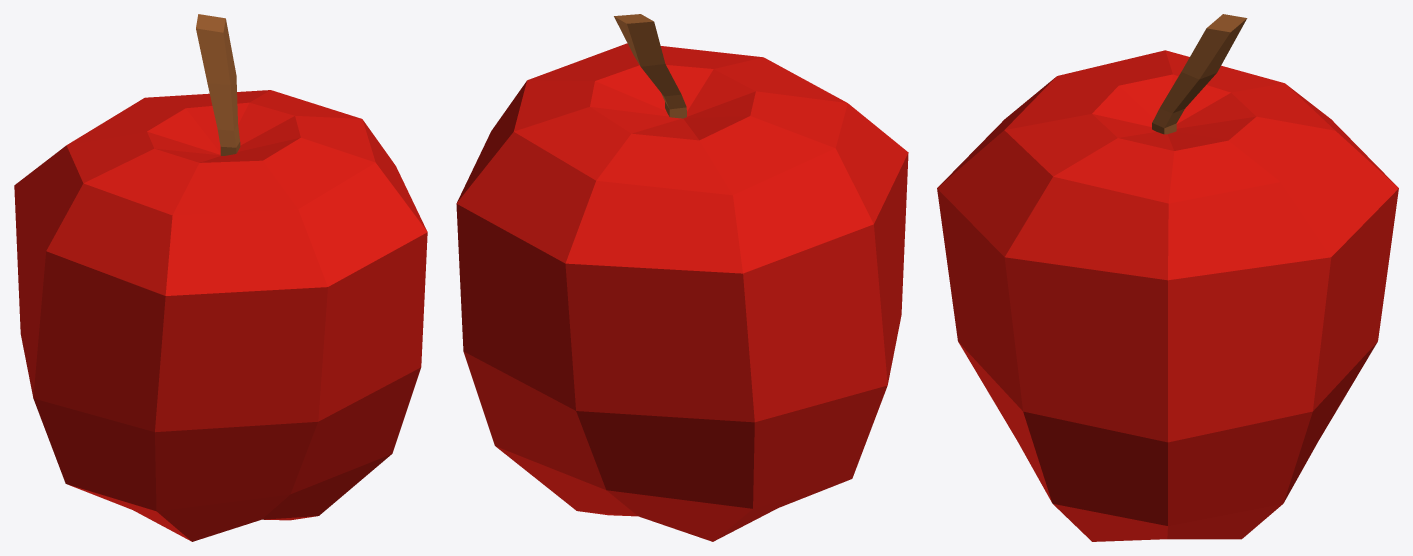
The model's file is apple.fbx.
The picture shows the model from 3 angles, left to right: view 1: azimuth 30°, elevation 25°; view 2: azimuth 150°, elevation 25°; view 3: azimuth 270°, elevation 25°; orthographic projection. The views are drawn at different scales.
Parts seen in each view (by area): view 1: apple; view 2: apple; view 3: apple.
Part boxes in pixels (box(x1,y1,x2,y2)): apple: box(14, 14, 427, 541); apple: box(456, 14, 908, 541); apple: box(937, 14, 1398, 541).
Size of the model in its own units: 37.95 by 45.19 by 37.47.
1 material, 1 textured.
